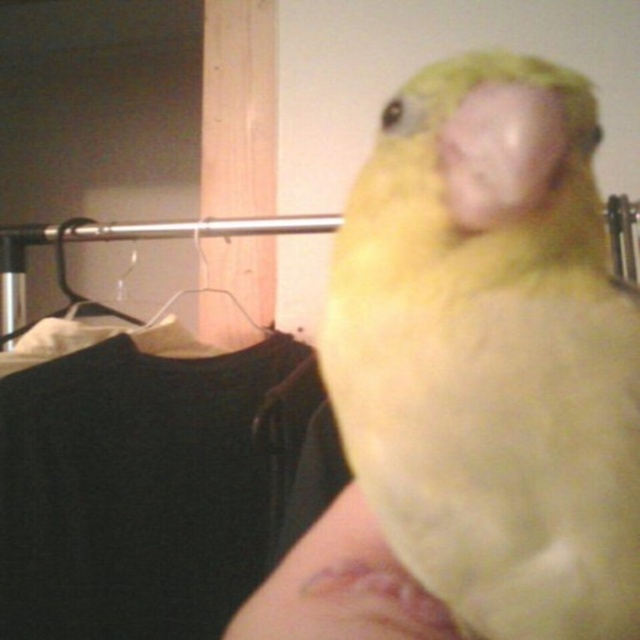Parrot: (316, 47, 639, 639)
